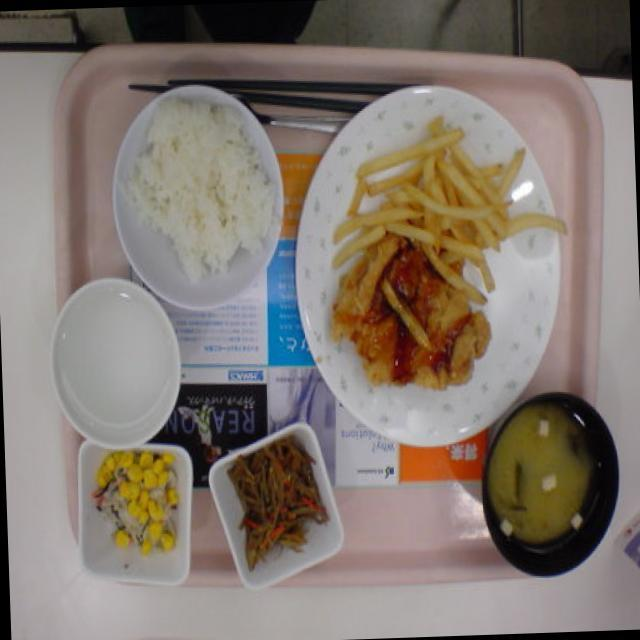French Fries: (338, 136, 535, 268)
Rice: (138, 107, 264, 271)
